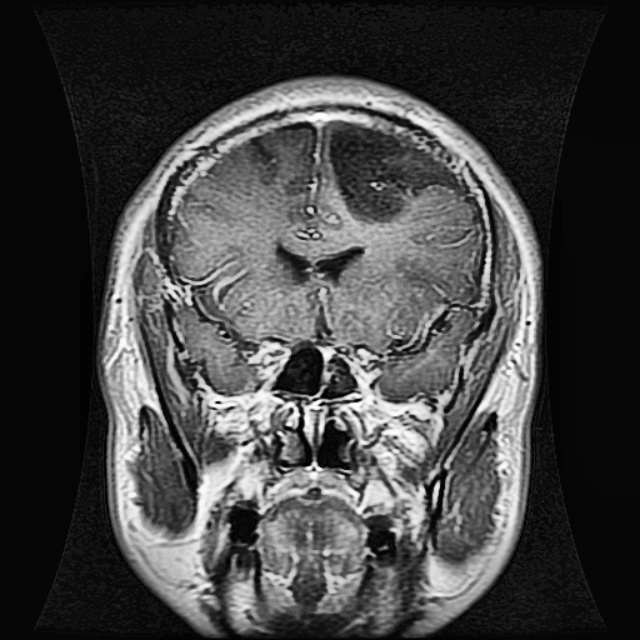Meningioma: (320, 120, 460, 227)
